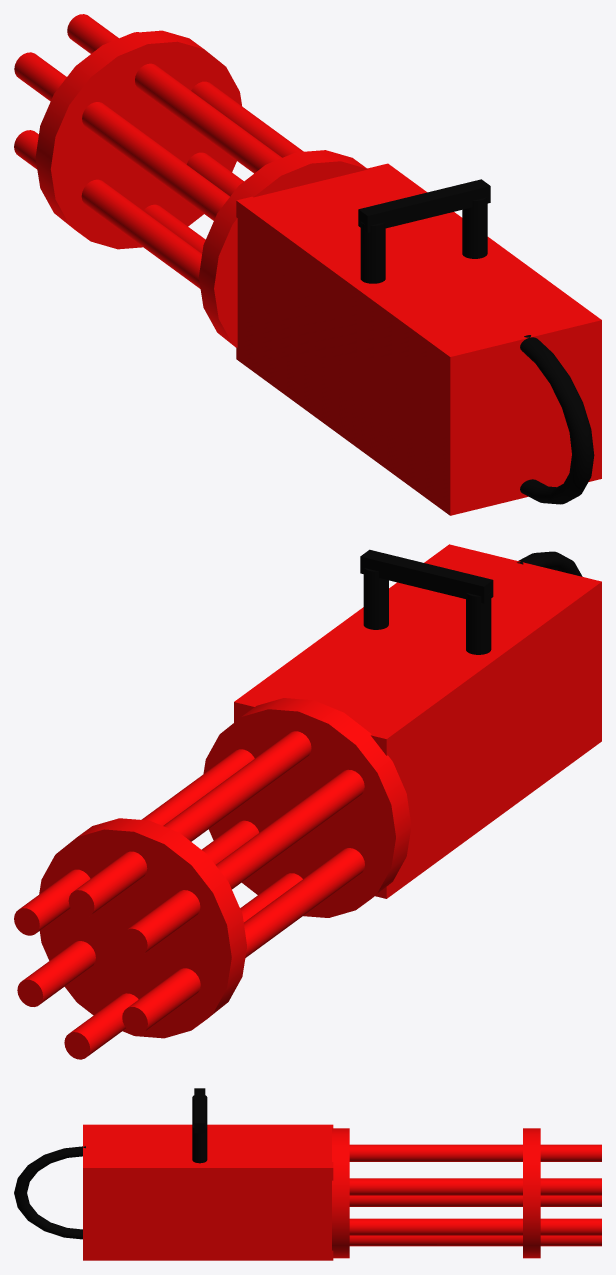
The model's file is idle machine gun.fbx.
3 renders of one model, top to bottom at view 1: azimuth 30°, elevation 25°; view 2: azimuth 150°, elevation 25°; view 3: azimuth 270°, elevation 25°, orthographic. The views are drawn at different scales.
Visible parts, largest first — view 1: machine_gun, barrel; view 2: barrel, machine_gun; view 3: machine_gun, barrel.
Part boxes in pixels (<box>): machine_gun: <box>236,163,601,515</box>; barrel: <box>14,14,367,347</box>; barrel: <box>14,698,411,1059</box>; machine_gun: <box>234,544,601,898</box>; machine_gun: <box>14,1088,333,1260</box>; barrel: <box>332,1128,601,1258</box>.
Bounding box in the file's own units: 2 × 2.48 × 8.98.
